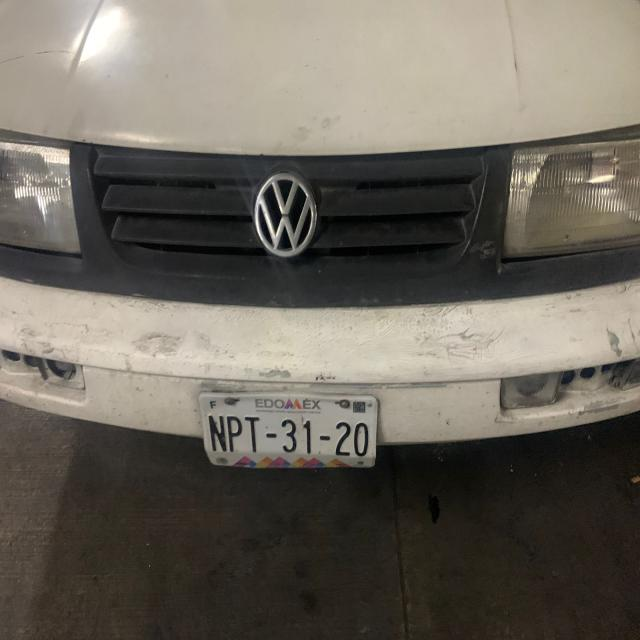placa: (202, 411, 376, 465)
